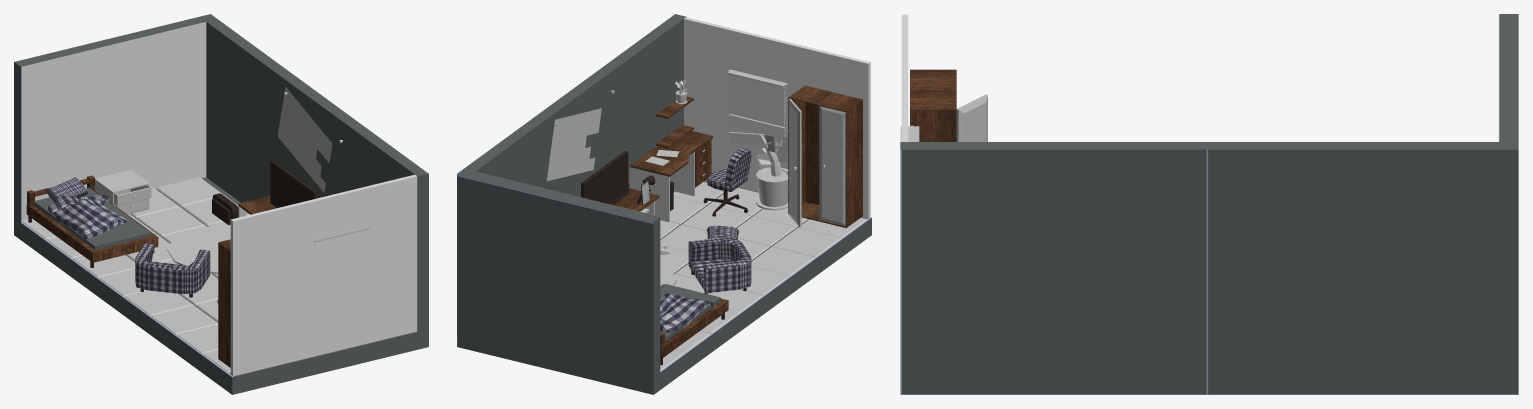
File: manRoom_mirror_last 1.FBX
The picture shows the model from 3 angles, left to right: view 1: azimuth 30°, elevation 25°; view 2: azimuth 150°, elevation 25°; view 3: azimuth 270°, elevation 25°; orthographic projection. The views are drawn at different scales.
Visible parts, largest first — view 1: tex1, Box022, Box021, tex2, Object029, draw01a; view 2: tex1, tex2, Box022, door1, door2, chair, Object029, pillow; view 3: tex1, door2, Box022.
Part boxes in pixels (x1=…): tex1: x1=14, y1=14, x2=428, y2=394; Box022: x1=230, y1=174, x2=417, y2=376; Box021: x1=21, y1=22, x2=206, y2=220; tex2: x1=21, y1=87, x2=370, y2=372; Object029: x1=53, y1=198, x2=129, y2=242; draw01a: x1=114, y1=185, x2=151, y2=205; tex1: x1=457, y1=14, x2=871, y2=394; tex2: x1=547, y1=69, x2=866, y2=370; Box022: x1=684, y1=17, x2=870, y2=218; door1: x1=819, y1=106, x2=845, y2=225; door2: x1=789, y1=98, x2=801, y2=227; chair: x1=703, y1=148, x2=751, y2=216; Object029: x1=660, y1=293, x2=712, y2=327; pillow: x1=706, y1=225, x2=739, y2=239; tex1: x1=900, y1=14, x2=1518, y2=394; door2: x1=956, y1=94, x2=987, y2=141; Box022: x1=901, y1=14, x2=908, y2=141.
Bounding box in the file's own units: 102 × 85.95 × 196.
